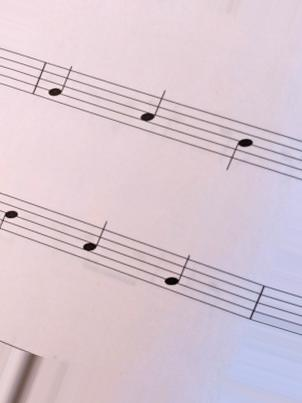note: (224, 109, 256, 174), (162, 241, 191, 307), (81, 216, 110, 277), (140, 86, 168, 142), (47, 59, 74, 114)
